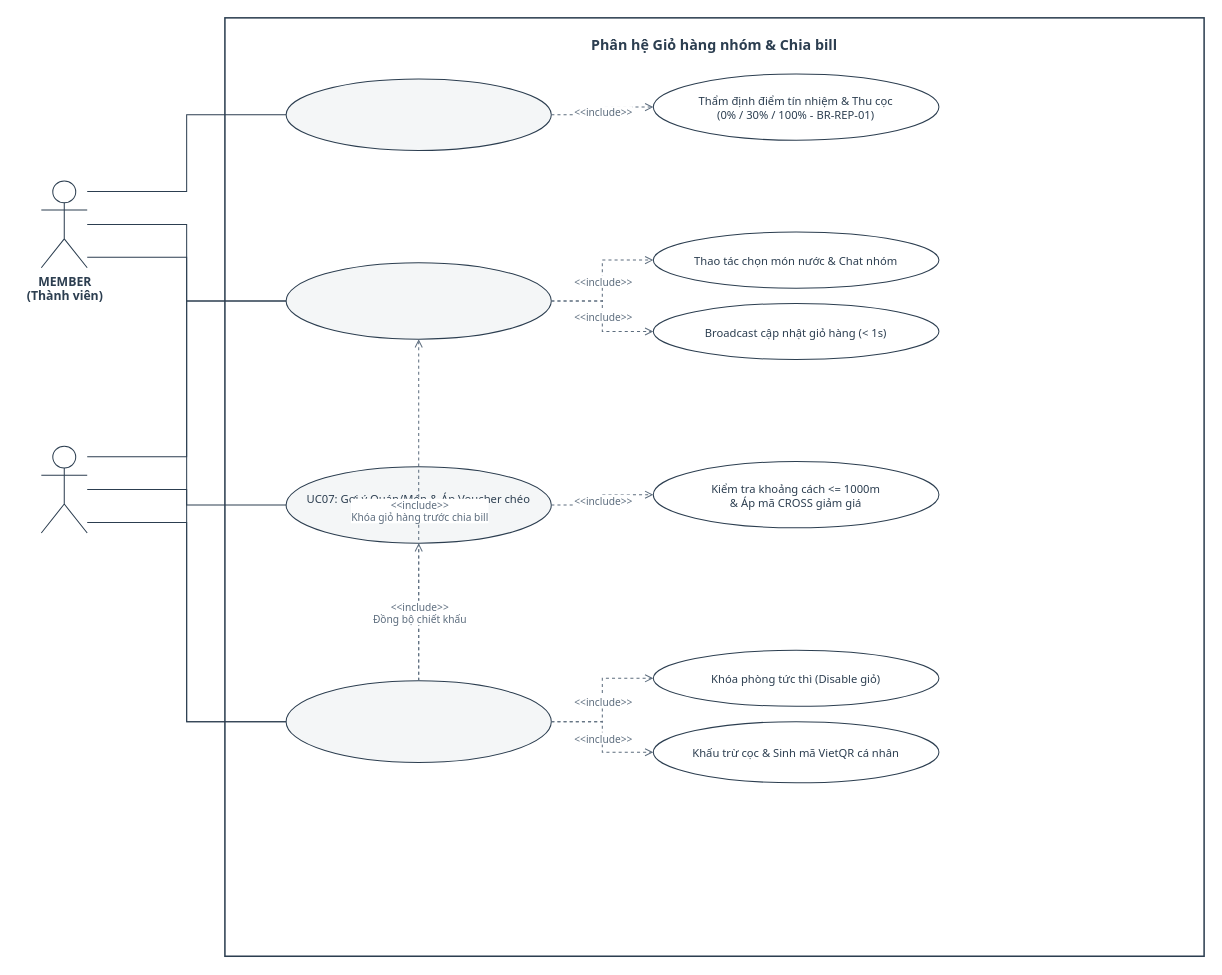
This 1222x975 diagram has some shape labels left out. The centre of each missing label's shape, as x and y in pixels:
"HOST (Trưởng nhóm)" goes at (x=63, y=489).
"UC05: Vào phòng & Tham gia kèo" goes at (x=418, y=114).
"UC06: Chọn món & Đồng bộ giỏ Realtime (BR-INT-04)" goes at (x=418, y=300).
"UC08: Tự động chia bill Largest Remainder & Chốt giỏ (BR-INT-02)" goes at (x=418, y=721).
